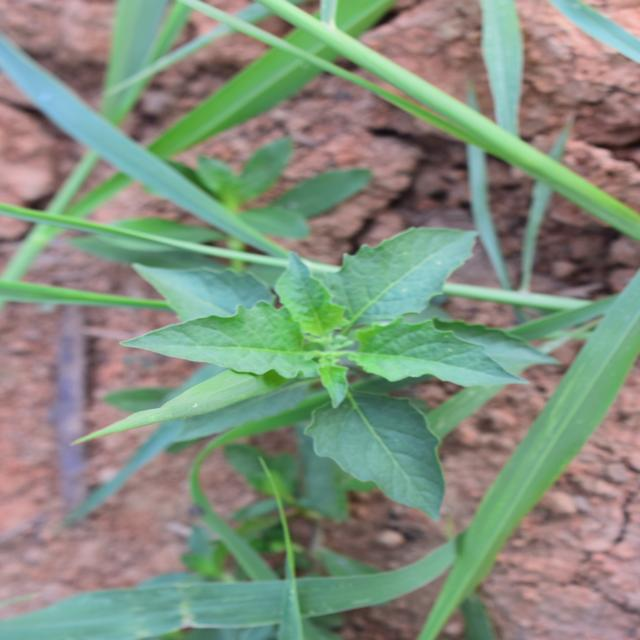Black_nightshade: (160, 152, 412, 498)
